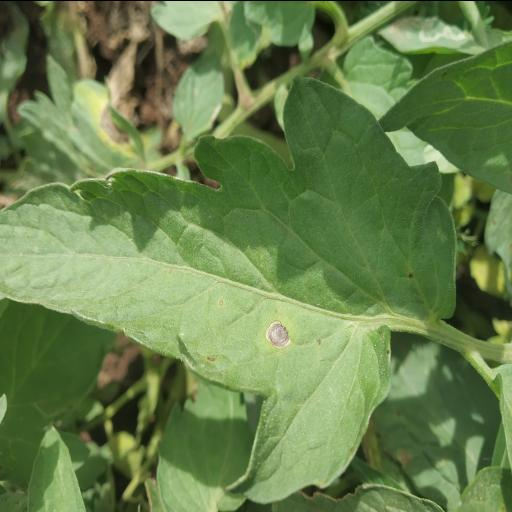disease_tomato: (0, 72, 462, 512)
